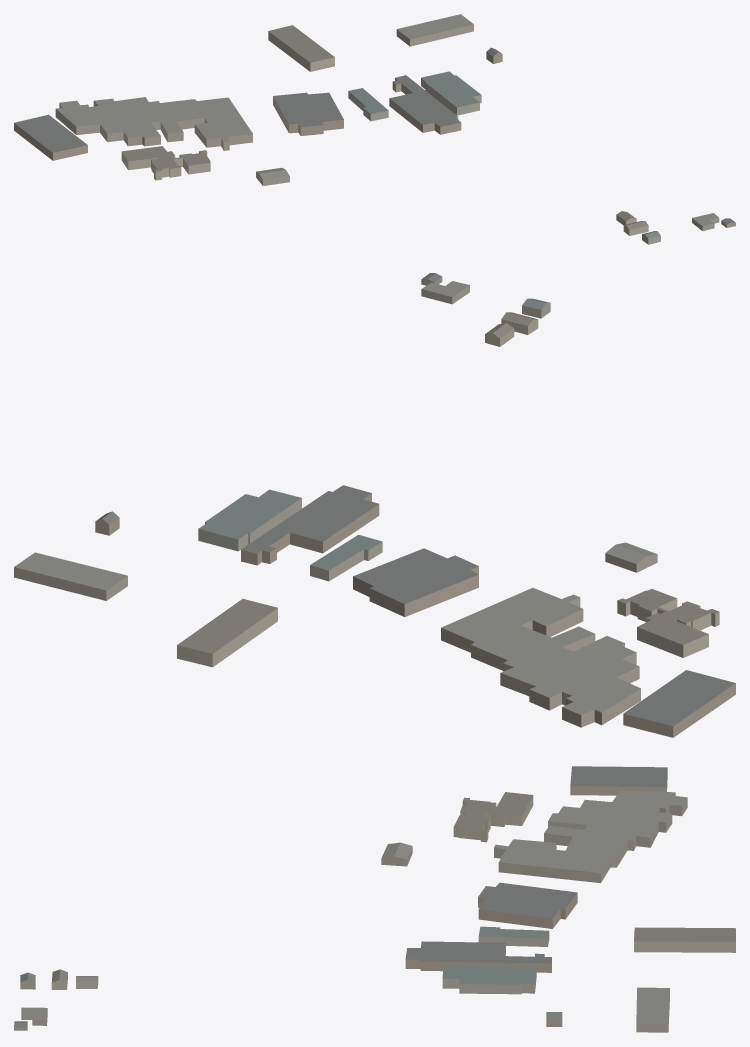
Rendered from b0c58624d2d8-chunk-1197_11846.glb.
3 views of the same model, one above another, from view 1: azimuth 30°, elevation 25°; view 2: azimuth 150°, elevation 25°; view 3: azimuth 270°, elevation 25° (orthographic). The views are drawn at different scales.
Visible parts, largest first — view 1: building_146842, building_104972, building_68097, building_24302, building_102691, building_81033, building_119718, building_171604, building_14534, building_171480; view 2: building_146842, building_104972, building_68097, building_24302, building_102691, building_119718, building_81033, building_171604, building_14534, building_171480, building_40122; view 3: building_146842, building_104972, building_68097, building_24302, building_81033, building_102691, building_119718, building_171604, building_14534, building_171480.
Part boxes in pixels (<box>): building_146842: <box>55,97,252,150</box>; building_104972: <box>273,92,343,135</box>; building_68097: <box>389,75,461,134</box>; building_24302: <box>14,114,87,160</box>; building_102691: <box>121,146,210,180</box>; building_81033: <box>268,25,334,71</box>; building_119718: <box>421,71,481,115</box>; building_171604: <box>396,14,473,46</box>; building_14534: <box>348,88,388,121</box>; building_171480: <box>256,167,289,185</box>; building_146842: <box>441,588,640,727</box>; building_104972: <box>353,548,478,616</box>; building_68097: <box>241,485,379,565</box>; building_24302: <box>623,670,735,737</box>; building_102691: <box>617,589,719,657</box>; building_119718: <box>198,489,301,551</box>; building_81033: <box>177,599,277,667</box>; building_171604: <box>14,552,127,600</box>; building_14534: <box>310,534,382,581</box>; building_171480: <box>605,542,657,572</box>; building_40122: <box>421,281,469,304</box>; building_146842: <box>494,790,687,882</box>; building_104972: <box>478,882,577,928</box>; building_68097: <box>405,941,551,972</box>; building_24302: <box>570,766,667,795</box>; building_81033: <box>634,927,735,952</box>; building_102691: <box>453,792,533,842</box>; building_119718: <box>442,966,536,994</box>; building_171604: <box>636,987,669,1032</box>; building_14534: <box>478,926,549,946</box>; building_171480: <box>381,842,412,866</box>.
Bounding box in the file's own units: 341 × 7.6 × 404.
